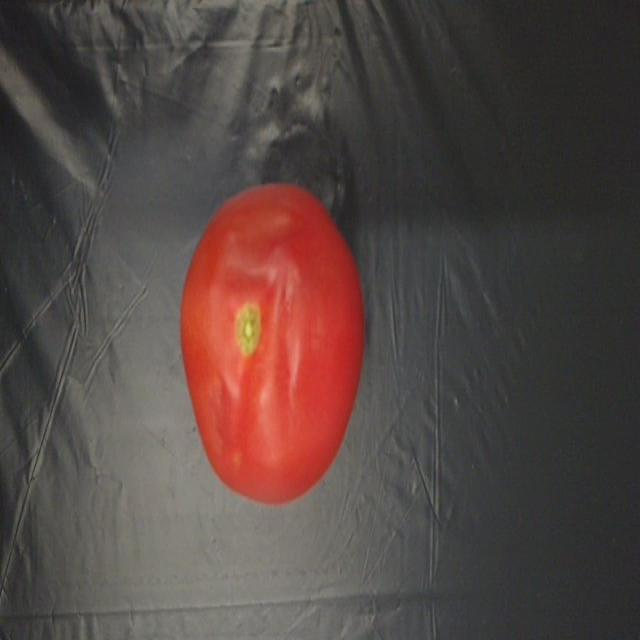kirmizi: (161, 155, 376, 514)
